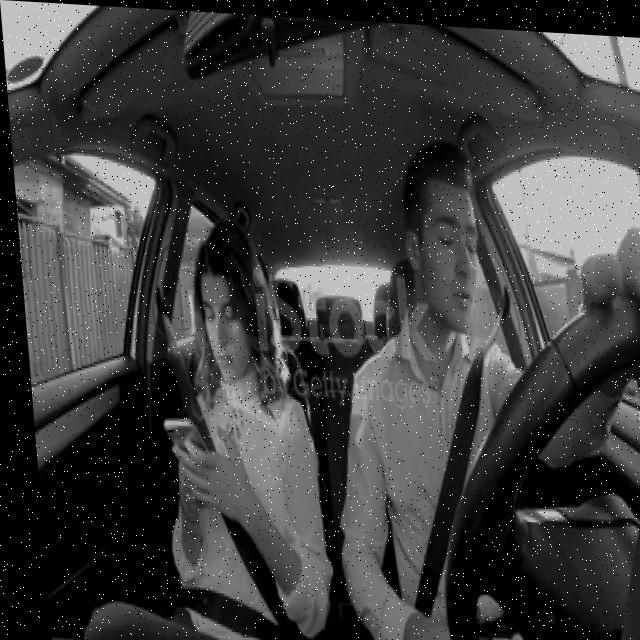PhoneCall: (154, 416, 203, 492)
